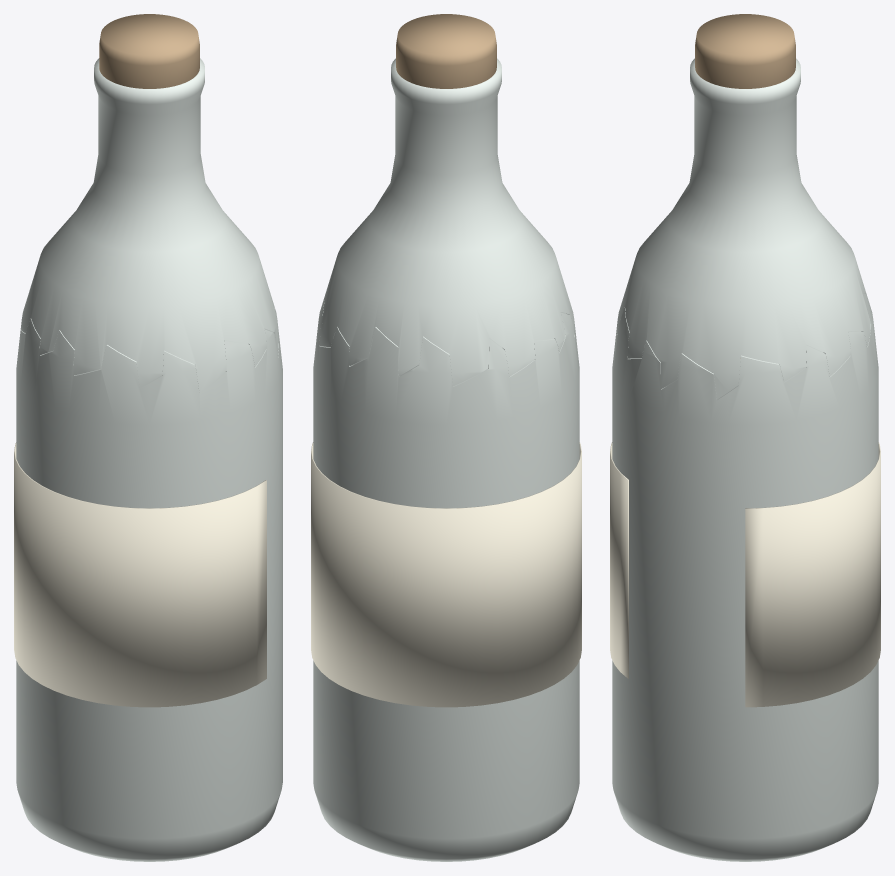
File: bottle_whiskey_broken.glb
3 views of the same model, side by side, from view 1: azimuth 30°, elevation 25°; view 2: azimuth 150°, elevation 25°; view 3: azimuth 270°, elevation 25° (orthographic).
Parts seen in each view (by area): view 1: Glass, Label, Neck, Cap; view 2: Glass, Label, Neck, Cap; view 3: Glass, Neck, Label, Cap.
Part boxes in pixels (bbox=[...]): Glass: bbox=[16, 290, 282, 861]; Label: bbox=[14, 442, 266, 707]; Neck: bbox=[20, 58, 278, 393]; Cap: bbox=[99, 14, 199, 88]; Glass: bbox=[313, 301, 579, 861]; Label: bbox=[311, 442, 581, 707]; Neck: bbox=[319, 58, 574, 386]; Cap: bbox=[396, 14, 496, 88]; Glass: bbox=[612, 293, 878, 861]; Neck: bbox=[616, 58, 870, 399]; Label: bbox=[610, 442, 880, 707]; Cap: bbox=[695, 14, 795, 88].
Bounding box in the file's own units: 0.0742 × 0.236 × 0.0742.
